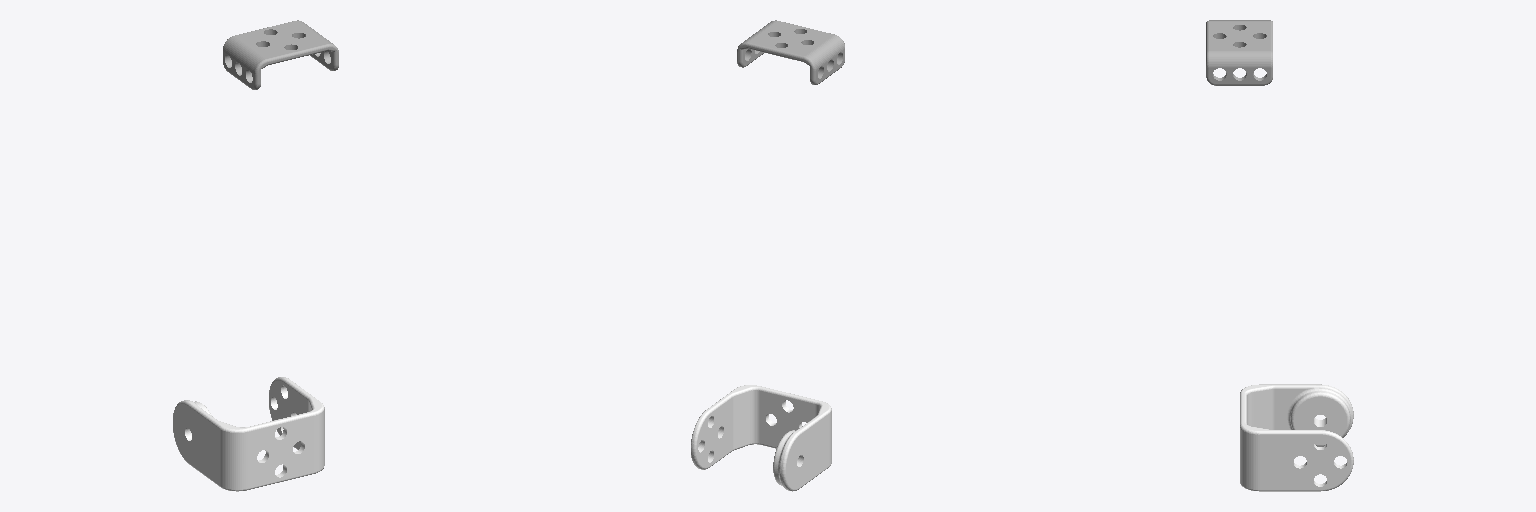
robot.urdf — PoppyErgoJr:
<robot
  name="PoppyErgoJr">
  <link
    name="base_link">
    <inertial>
      <origin
        xyz="-0.00273845833301537 0.00821639745723966 -0.0338977122062889"
        rpy="0 0 0" />
      <mass
        value="0.0802410895423366" />
      <inertia
        ixx="0.00011430194806305"
        ixy="-1.74777682977282E-06"
        ixz="7.8063859003738E-06"
        iyy="0.000177560979735167"
        iyz="6.80763560469771E-06"
        izz="7.51325469990478E-05" />
    </inertial>
    <visual>
      <origin
        xyz="0 0 0"
        rpy="0 0 0" />
      <geometry>
        <mesh
          filename="PoppyErgoJr/meshes/base.stl" />
      </geometry>
      <material
        name="">
        <color
          rgba="0.752941176470588 0.752941176470588 0.752941176470588 1" />
      </material>
    </visual>
    <collision>
      <origin
        xyz="0 0 0"
        rpy="0 0 0" />
      <geometry>
        <mesh
          filename="PoppyErgoJr/meshes/base.stl" />
      </geometry>
    </collision>
  </link>
  <link
    name="long_U">
    <inertial>
      <origin
        xyz="-0.00243058056226709 1.14505937431452E-07 0.0129312523306501"
        rpy="0 0 0" />
      <mass
        value="0.0042118228619085" />
      <inertia
        ixx="5.78707668456099E-07"
        ixy="9.44283869977724E-12"
        ixz="-1.13587476220175E-07"
        iyy="1.25420346852677E-06"
        iyz="4.64830147251523E-12"
        izz="9.27174545760678E-07" />
    </inertial>
    <visual>
      <origin
        xyz="0 0 0"
        rpy="0 0 0" />
      <geometry>
        <mesh
          filename="PoppyErgoJr/meshes/long_U.stl" />
      </geometry>
      <material
        name="">
        <color
          rgba="1 1 1 1" />
      </material>
    </visual>
    <collision>
      <origin
        xyz="0 0 0"
        rpy="0 0 0" />
      <geometry>
        <mesh
          filename="PoppyErgoJr/meshes/long_U.stl" />
      </geometry>
    </collision>
  </link>
  <joint
    name="m1"
    type="continuous">
    <origin
      xyz="0 0 0.0327993216120967"
      rpy="-6.12303176911189E-17 0 0" />
    <parent
      link="base_link" />
    <child
      link="long_U" />
    <axis
      xyz="0 0 -1" />
  </joint>
  <link
    name="section_1">
    <inertial>
      <origin
        xyz="-0.000168296047337745 0.013441283142678 -3.36410230095056E-09"
        rpy="0 0 0" />
      <mass
        value="0.0201321844066136" />
      <inertia
        ixx="6.51960684491032E-06"
        ixy="-5.35361387413197E-07"
        ixz="-5.67167110473808E-13"
        iyy="2.37206686086462E-06"
        iyz="-1.07202400036876E-12"
        izz="7.46616268702629E-06" />
    </inertial>
    <visual>
      <origin
        xyz="0 0 0"
        rpy="0 0 0" />
      <geometry>
        <!-- <mesh filename="PoppyErgoJr/meshes/section_1.stl" /> -->
        <mesh filename="PoppyErgoJr/meshes/horn2horn.stl" />
      </geometry>
      <material
        name="">
        <color
          rgba="0.752941176470588 0.752941176470588 0.752941176470588 1" />
      </material>
    </visual>
    <collision>
      <origin
        xyz="0 0 0"
        rpy="0 0 0" />
      <geometry>
        <!-- <mesh filename="PoppyErgoJr/meshes/section_1.stl" /> -->
        <mesh filename="PoppyErgoJr/meshes/horn2horn.stl" />
      </geometry>
    </collision>
  </link>
  <joint
    name="m2"
    type="continuous">
    <origin
      xyz="0 0 0.0240006783879033"
      rpy="1.5707963267949 0 0" />
    <parent
      link="long_U" />
    <child
      link="section_1" />
    <axis
      xyz="-1 0 0" />
  </joint>
  <link
    name="section_2">
    <inertial>
      <origin
        xyz="0.000407772974186014 0.00840914919415664 -1.07672250595912E-09"
        rpy="0 0 0" />
      <mass
        value="0.017821725151696" />
      <inertia
        ixx="2.52304488643742E-06"
        ixy="-6.63873566658207E-08"
        ixz="-2.02107710451767E-13"
        iyy="1.64177128414312E-06"
        iyz="3.46919494425175E-13"
        izz="2.86561030339994E-06" />
    </inertial>
    <visual>
      <origin
        xyz="0 0 0"
        rpy="0 0 0" />
      <geometry>
        <!-- <mesh filename="PoppyErgoJr/meshes/section_2.stl" /> -->
        <mesh filename="PoppyErgoJr/meshes/short_U.stl" />
      </geometry>
      <material
        name="">
        <color
          rgba="0.752941176470588 0.752941176470588 0.752941176470588 1" />
      </material>
    </visual>
    <collision>
      <origin
        xyz="0 0 0"
        rpy="0 0 0" />
      <geometry>
        <!-- <mesh filename="PoppyErgoJr/meshes/section_2.stl" /> -->
        <mesh filename="PoppyErgoJr/meshes/short_U.stl" />
      </geometry>
    </collision>
  </link>
  <joint
    name="m3"
    type="continuous">
    <origin
      xyz="0 0.054 0"
      rpy="0 0 0" />
    <parent
      link="section_1" />
    <child
      link="section_2" />
    <axis
      xyz="-1 0 0" />
  </joint>
  <link
    name="section_3">
    <inertial>
      <origin
        xyz="-0.000529269977744151 -0.0148172531686623 -0.0123545994437081"
        rpy="0 0 0" />
      <mass
        value="0.0201321844066136" />
      <inertia
        ixx="5.58716321477767E-06"
        ixy="3.84615911021611E-09"
        ixz="3.80051502924447E-07"
        iyy="6.00831891375732E-06"
        iyz="9.50610838817802E-08"
        izz="2.36437426368354E-06" />
    </inertial>
    <visual>
      <origin
        xyz="0 0 0"
        rpy="0 0 0" />
      <geometry>
        <!-- <mesh filename="PoppyErgoJr/meshes/section_3.stl" /> -->
        <mesh filename="PoppyErgoJr/meshes/horn2horn.stl" />
      </geometry>
      <material
        name="">
        <color
          rgba="0.752941176470588 0.752941176470588 0.752941176470588 1" />
      </material>
    </visual>
    <collision>
      <origin
        xyz="0 0 0"
        rpy="0 0 0" />
      <geometry>
        <!-- <mesh filename="PoppyErgoJr/meshes/section_3.stl" /> -->
        <mesh filename="PoppyErgoJr/meshes/horn2horn.stl" />
      </geometry>
    </collision>
  </link>
  <joint
    name="m4"
    type="continuous">
    <origin
      xyz="0 0.0298217741221248 0"
      rpy="3.14159265358979 0 0" />
    <parent
      link="section_2" />
    <child
      link="section_3" />
    <axis
      xyz="0 1 0" />
  </joint>
  <link
    name="section_4">
    <inertial>
      <origin
        xyz="-0.000168296047337745 0.013441283142678 -3.36410227452788E-09"
        rpy="0 0 0" />
      <mass
        value="0.0201321844066137" />
      <inertia
        ixx="6.51960684491033E-06"
        ixy="-5.3536138741319E-07"
        ixz="-5.67167109549002E-13"
        iyy="2.37206686086462E-06"
        iyz="-1.07202399874137E-12"
        izz="7.46616268702631E-06" />
    </inertial>
    <visual>
      <origin
        xyz="0 0 0"
        rpy="0 0 0" />
      <geometry>
        <!-- <mesh filename="PoppyErgoJr/meshes/section_4.stl" /> -->
        <mesh filename="PoppyErgoJr/meshes/horn2horn.stl" />
      </geometry>
      <material
        name="">
        <color
          rgba="0.752941176470588 0.752941176470588 0.752941176470588 1" />
      </material>
    </visual>
    <collision>
      <origin
        xyz="0 0 0"
        rpy="0 0 0" />
      <geometry>
        <!-- <mesh filename="PoppyErgoJr/meshes/section_4.stl" /> -->
        <mesh filename="PoppyErgoJr/meshes/horn2horn.stl" />
      </geometry>
    </collision>
  </link>
  <joint
    name="m5"
    type="continuous">
    <origin
      xyz="0 -0.0151782258778753 -0.048"
      rpy="-1.5707963267949 0 0" />
    <parent
      link="section_3" />
    <child
      link="section_4" />
    <axis
      xyz="-1 0 0" />
  </joint>
  <link
    name="tip">
    <inertial>
      <origin
        xyz="1.30842922607677E-09 0.000440812249500631 -0.00687616557228032"
        rpy="0 0 0" />
      <mass
        value="0.0164859649700598" />
      <inertia
        ixx="2.21073012081829E-06"
        ixy="2.00704445336612E-13"
        ixz="2.61313974888777E-13"
        iyy="1.95245657563094E-06"
        iyz="5.52468772381494E-08"
        izz="1.46932588043522E-06" />
    </inertial>
    <visual>
      <origin
        xyz="0 0 0"
        rpy="0 0 0" />
      <geometry>
        <!-- <mesh filename="PoppyErgoJr/meshes/tip.stl" /> -->
        <mesh filename="PoppyErgoJr/meshes/tools/gripper-fixation.stl" />
      </geometry>
      <material
        name="">
        <color
          rgba="0.752941176470588 0.752941176470588 0.752941176470588 1" />
      </material>
    </visual>
    <collision>
      <origin
        xyz="0 0 0"
        rpy="0 0 0" />
      <geometry>
        <!-- <mesh filename="PoppyErgoJr/meshes/tip.stl" /> -->
        <mesh filename="PoppyErgoJr/meshes/tools/gripper-fixation.stl" />
      </geometry>
    </collision>
  </link>
  <joint
    name="m6"
    type="continuous">
    <origin
      xyz="0 0.054 0"
      rpy="1.5707963267949 1.5707963267949 0" />
    <parent
      link="section_4" />
    <child
      link="tip" />
    <axis
      xyz="0 -1 0" />
  </joint>
</robot>

--- What the picture shows (computed from the rendered views, not written in the file) ---
The picture shows the robot from 3 angles, left to right: view 1: azimuth 30°, elevation 25°; view 2: azimuth 150°, elevation 25°; view 3: azimuth 270°, elevation 25°; orthographic projection.
Robot: PoppyErgoJr — 7 links, 6 joints (6 continuous); root link base_link; default pose: every joint at zero.
Visible links, largest first — view 1: long_U, section_2; view 2: long_U, section_2; view 3: long_U, section_2.
Link boxes in pixels (bbox=[...]): long_U: bbox=[173, 377, 324, 491]; section_2: bbox=[223, 20, 338, 89]; long_U: bbox=[691, 385, 831, 491]; section_2: bbox=[737, 20, 844, 84]; long_U: bbox=[1240, 384, 1353, 491]; section_2: bbox=[1206, 20, 1272, 85].
Size in the robot's own frame: 0.0343 by 0.0439 by 0.1419 metres.
2 mesh visuals loaded from 5 distinct referenced files (2 binary STL); not drawn: 5 (reference not matched to a file when rendering).